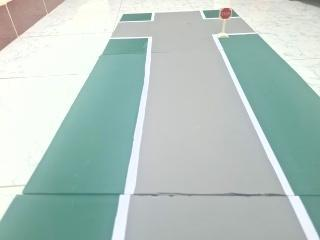stop: (217, 5, 233, 26)
